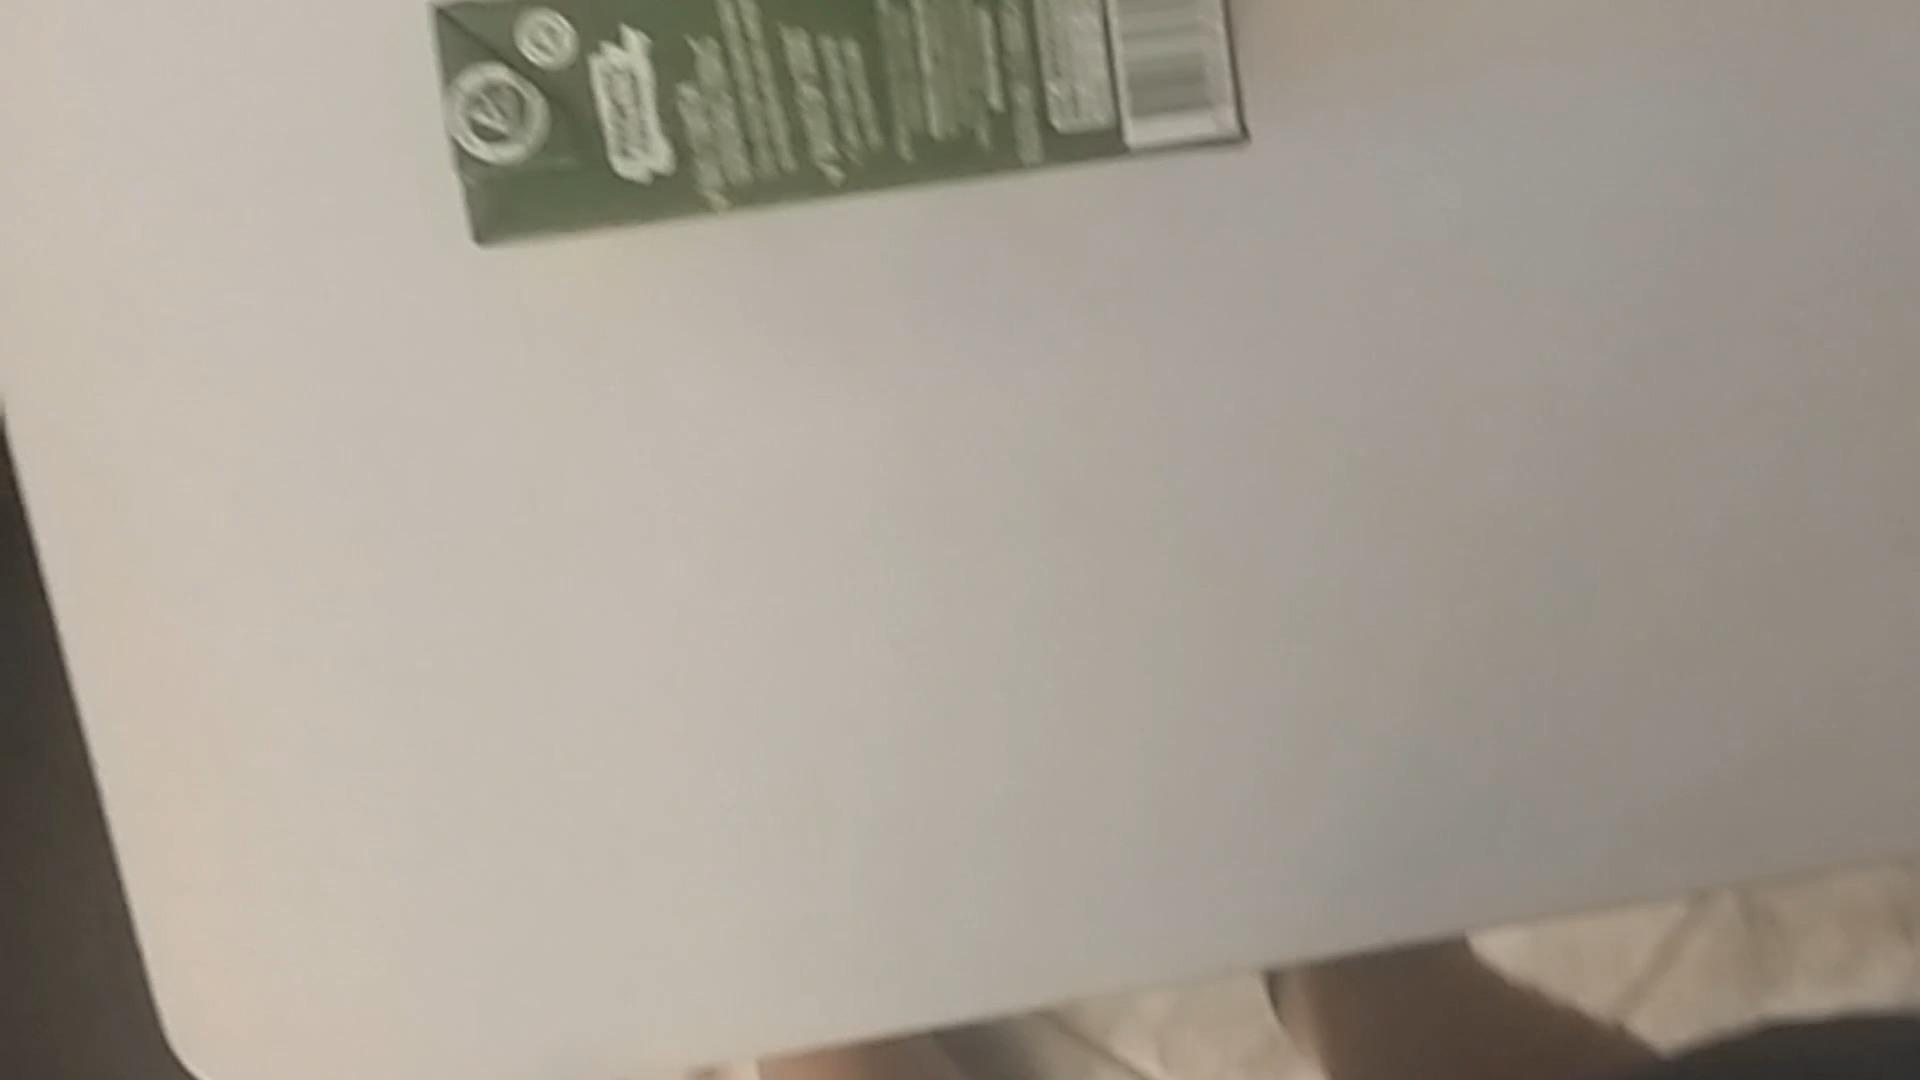coco: (413, 0, 1270, 277)
